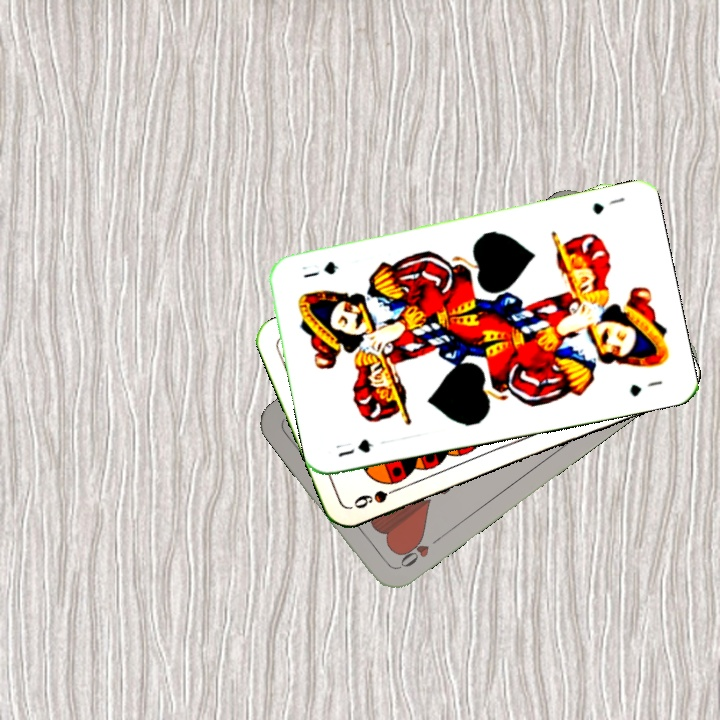GU: (334, 435, 376, 460), (588, 193, 627, 217)
HO: (393, 531, 444, 573)
S9: (349, 482, 406, 512)
